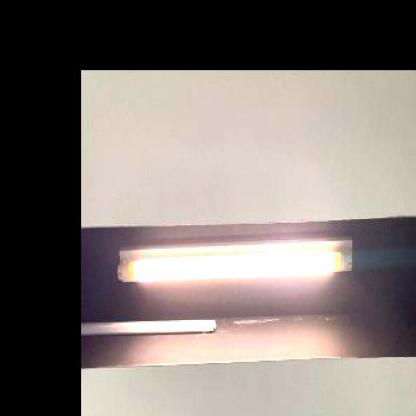light_on: (109, 223, 366, 297)
